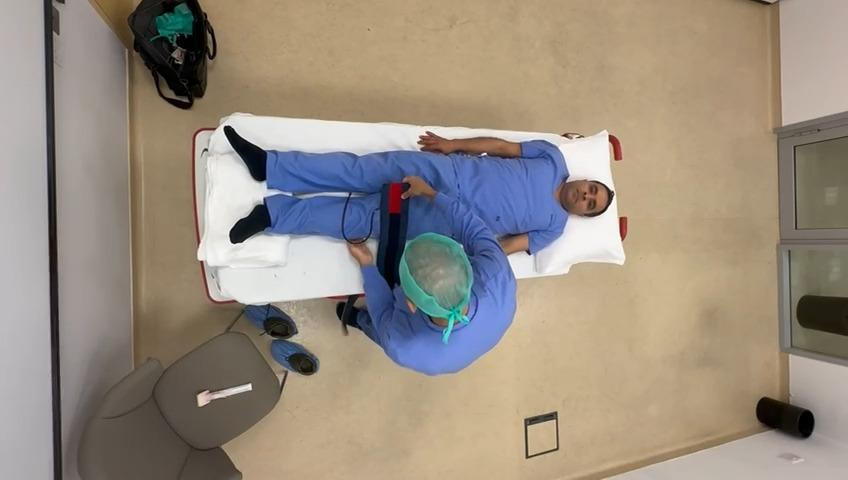bed: (192, 116, 626, 302)
patient: (224, 127, 613, 253)
prepstick: (197, 383, 252, 407)
tourniquet: (378, 182, 409, 287)
